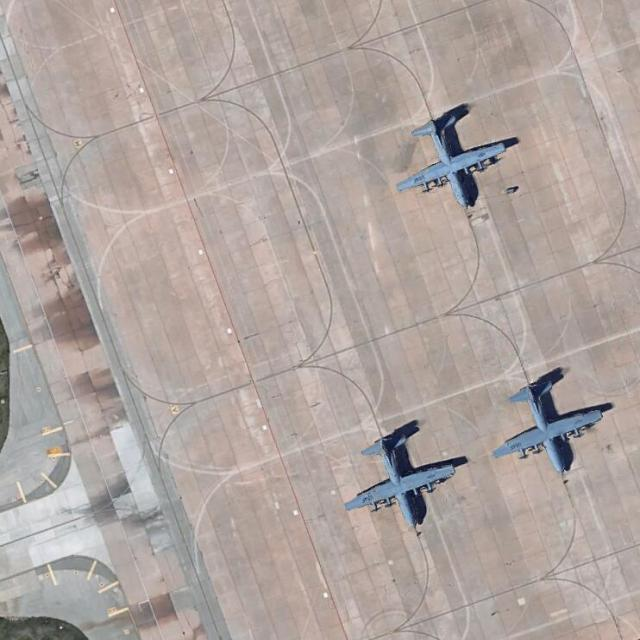fighter jet: (402, 106, 506, 227), (501, 384, 606, 490), (354, 426, 440, 530)
